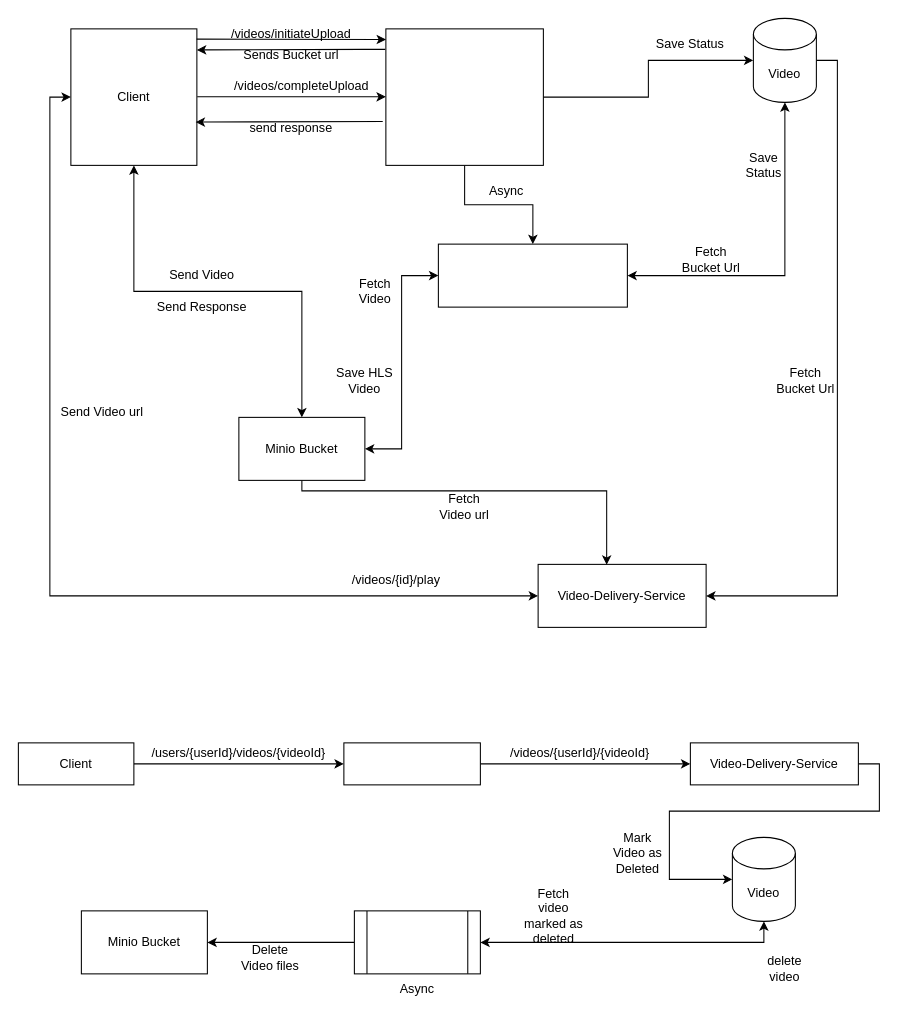
Some shapes in this 906 by 1024 pixel diagram are drawn without their labels. The centre of each missing label's shape, as x and y in pixels:
Job: [416,942]
User-Service: [411,763]
Video-Processing-Service: [532,275]
Video-Upload-Service: [464,96]
